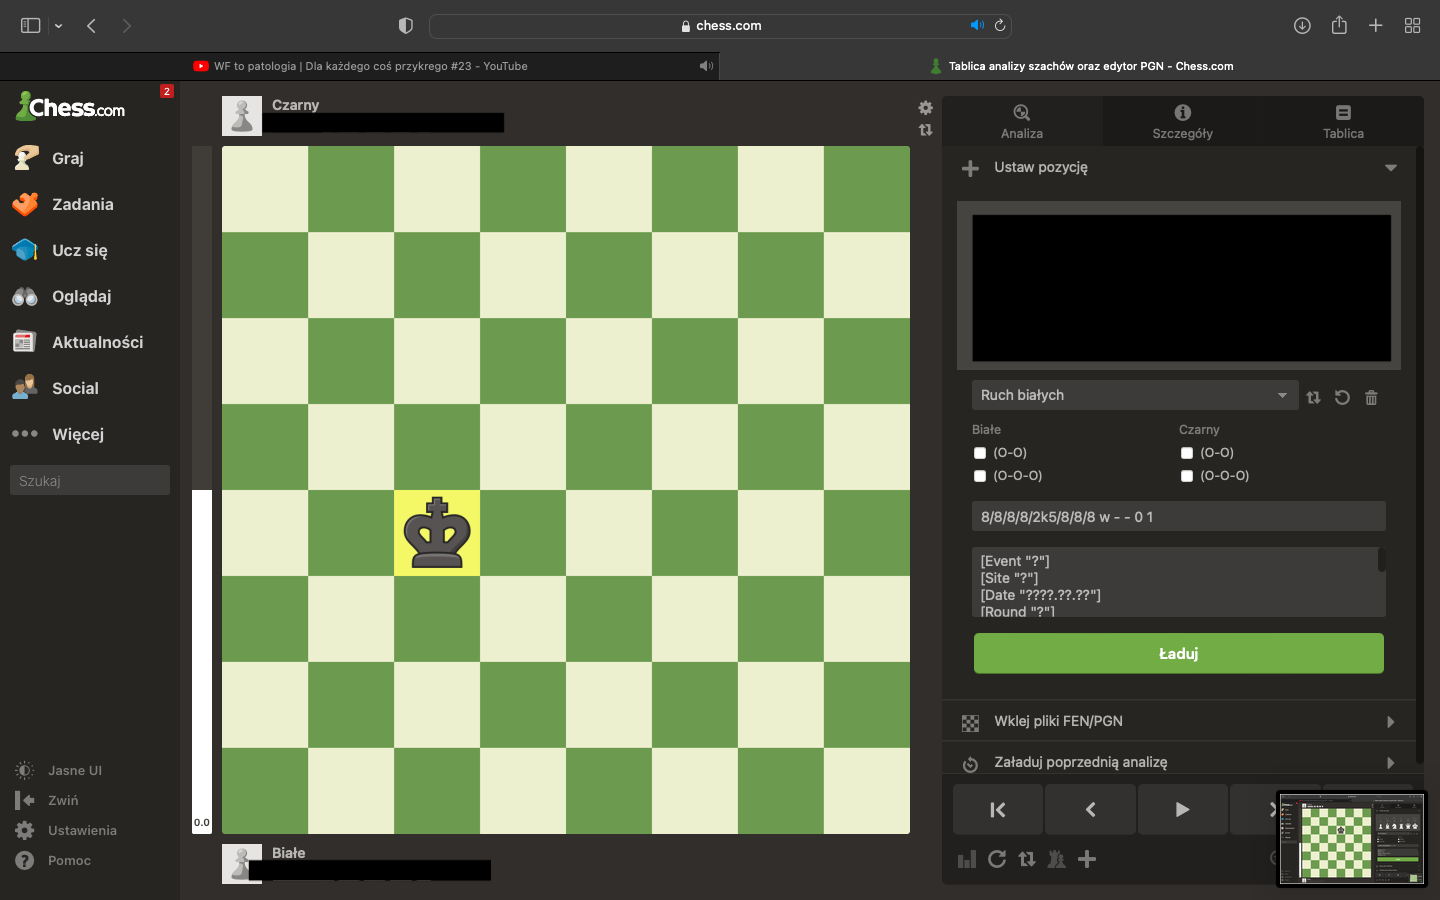black_king: (403, 496, 472, 569)
